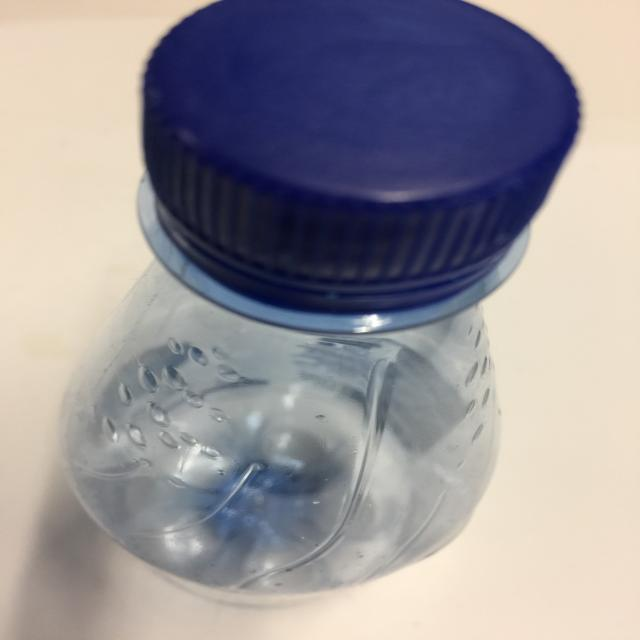plastic: (56, 2, 590, 620)
